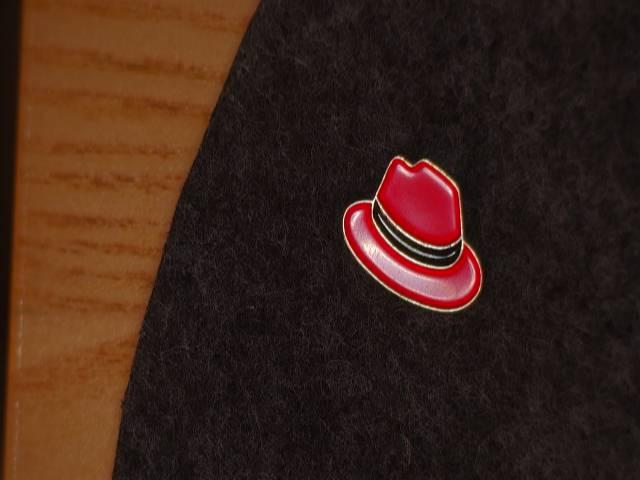Red-Hat: (318, 138, 517, 337)
